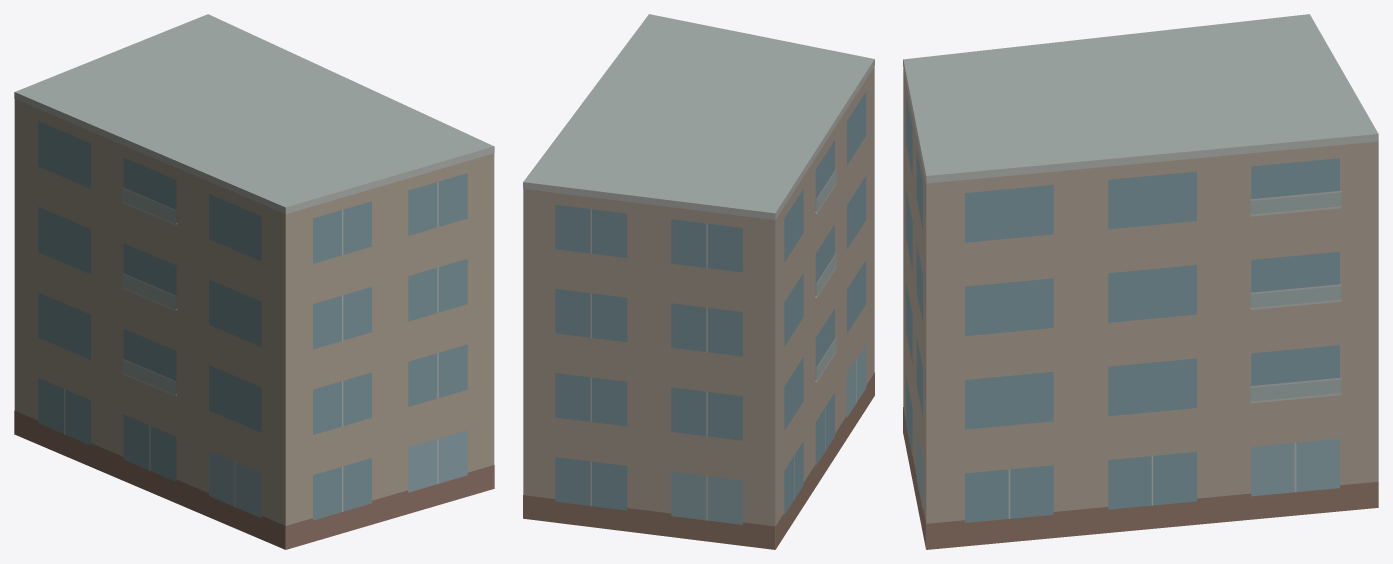
Rendered from residential-0882b6fe-0f3f-4758-96fe-8417b8ebbc8d.glb.
3 renders of one model, left to right at view 1: azimuth 30°, elevation 25°; view 2: azimuth 150°, elevation 25°; view 3: azimuth 270°, elevation 25°, orthographic. The views are drawn at different scales.
Visible parts, largest first — view 1: residential-0882b6fe-0f3f-4758-96fe-8417b8ebbc8d.tmp; view 2: residential-0882b6fe-0f3f-4758-96fe-8417b8ebbc8d.tmp; view 3: residential-0882b6fe-0f3f-4758-96fe-8417b8ebbc8d.tmp.
Boxes of the visible parts, left/top/right/bottom form: residential-0882b6fe-0f3f-4758-96fe-8417b8ebbc8d.tmp: left=14, top=14, right=494, bottom=549; residential-0882b6fe-0f3f-4758-96fe-8417b8ebbc8d.tmp: left=523, top=14, right=874, bottom=549; residential-0882b6fe-0f3f-4758-96fe-8417b8ebbc8d.tmp: left=903, top=14, right=1378, bottom=549.
Size of the model in its own units: 11.35 by 12.2 by 14.07.
